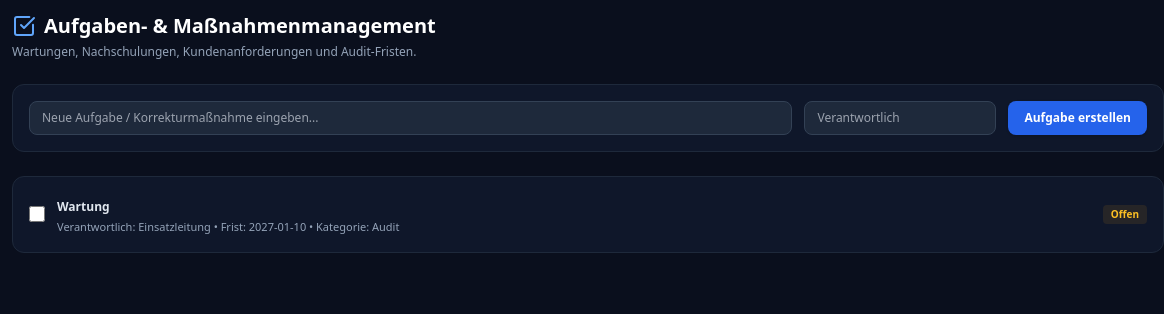
Scenario: TasksModule confirmed persistence › uses an operable checkbox and exposes a failed status change
The image size is (1164, 314).
Click the checkbox named "Status von Wartung ändern" at coordinates (37, 214), box [29,206,45,222]
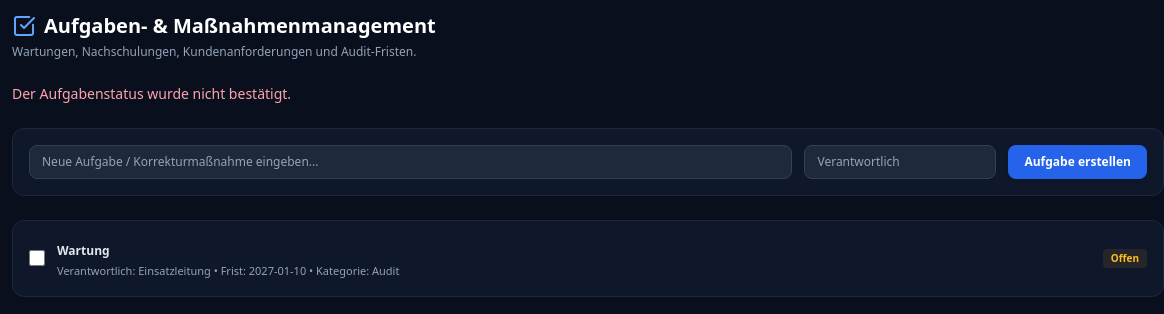
Now the message "Der Aufgabenstatus wurde nicht bestätigt." is shown, box [12,84,291,103]
